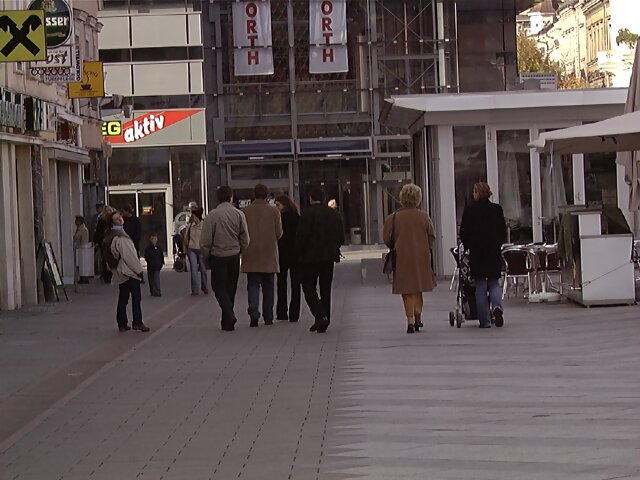person: (369, 182, 451, 340), (457, 172, 526, 332), (289, 185, 347, 338), (198, 183, 253, 329), (98, 209, 152, 338), (240, 179, 284, 330)
